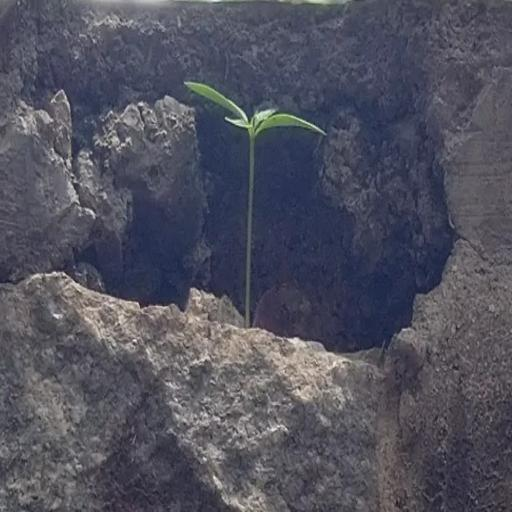spalling: (26, 0, 445, 424)
